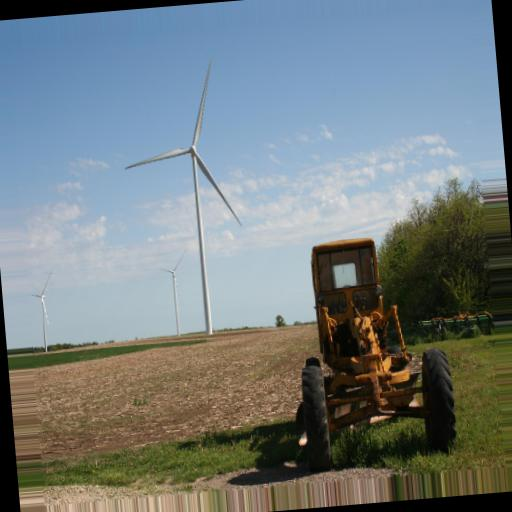wind turbine: (124, 58, 245, 335), (156, 248, 190, 336), (30, 272, 52, 350)
